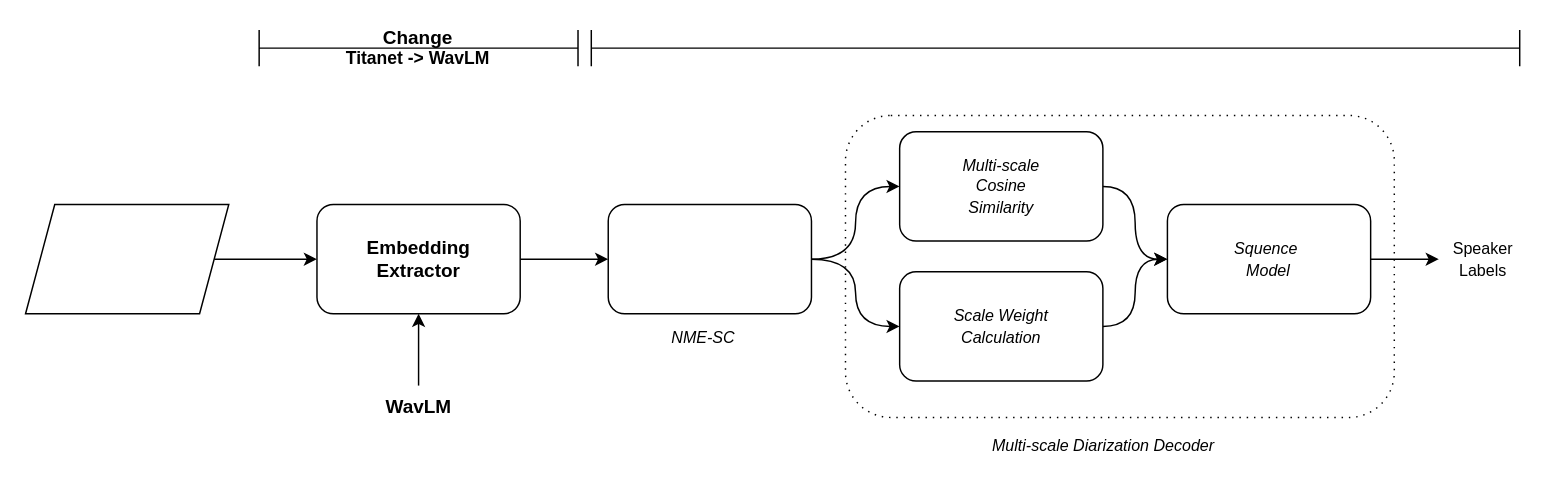
This 1562x499 diagram has some shape labels left out. The centre of each missing label's shape, as x and y in pixels:
Audio Input: (x=126, y=258)
Clustering: (x=709, y=258)
Same MSDD Flow: (x=1055, y=47)
